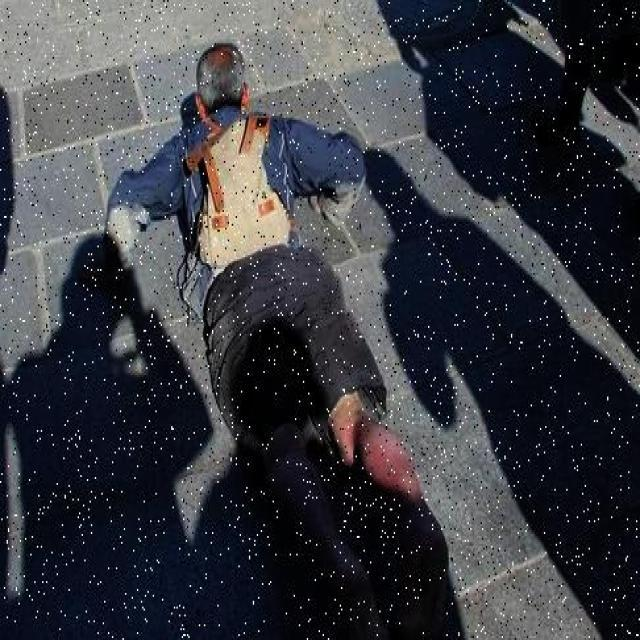fall: (116, 37, 413, 630)
